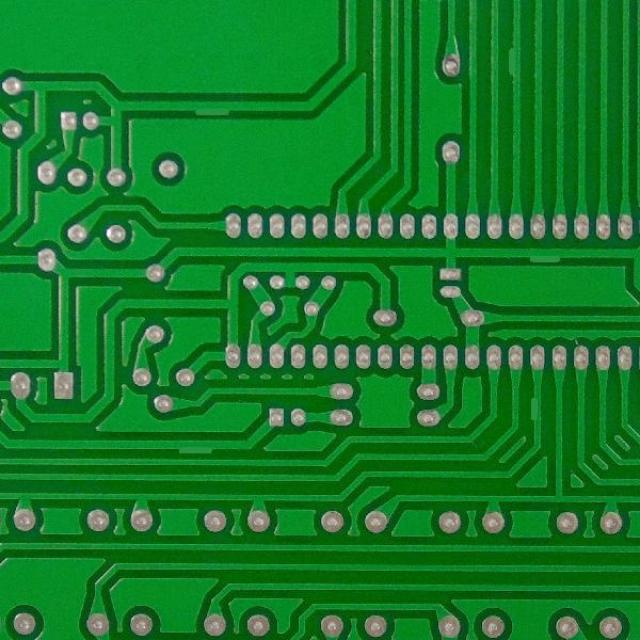spur: (500, 40, 529, 82), (189, 97, 237, 121), (522, 244, 568, 267), (175, 437, 219, 458), (524, 392, 543, 423)
